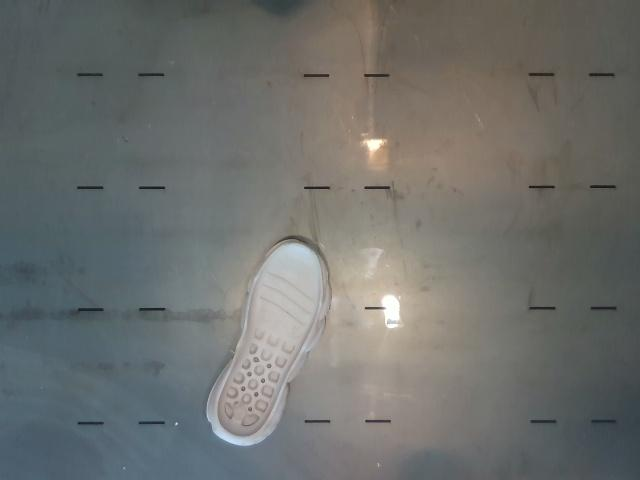shoes: (217, 242, 322, 438)
